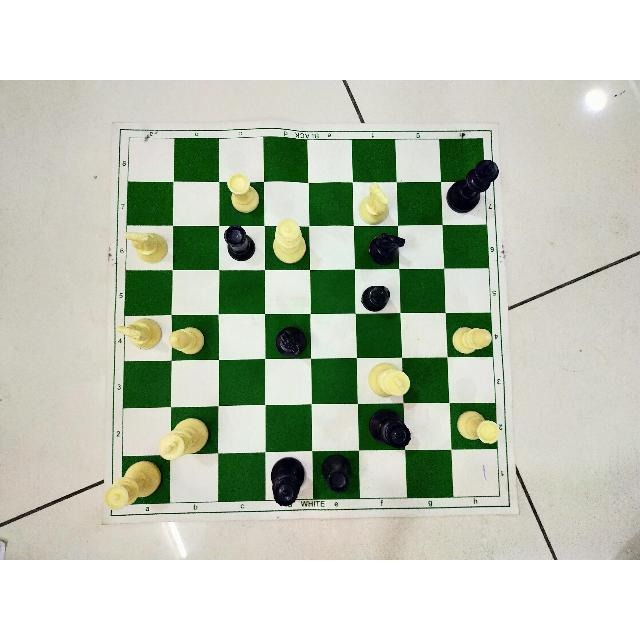black-bishop: (362, 284, 392, 312)
black-king: (443, 156, 500, 215)
black-knight: (367, 229, 407, 266), (273, 326, 308, 356)
black-queen: (362, 406, 419, 451), (270, 455, 314, 509)
black-rook: (220, 221, 258, 263), (319, 454, 354, 496)
white-bishop: (450, 317, 492, 357), (167, 322, 206, 356)
white-king: (157, 415, 212, 461), (364, 362, 411, 398)
white-knight: (121, 227, 170, 263), (114, 317, 161, 351), (355, 184, 393, 224)
white-queen: (107, 456, 165, 510), (272, 216, 308, 265)
white-rook: (452, 407, 501, 450), (221, 169, 263, 213)
